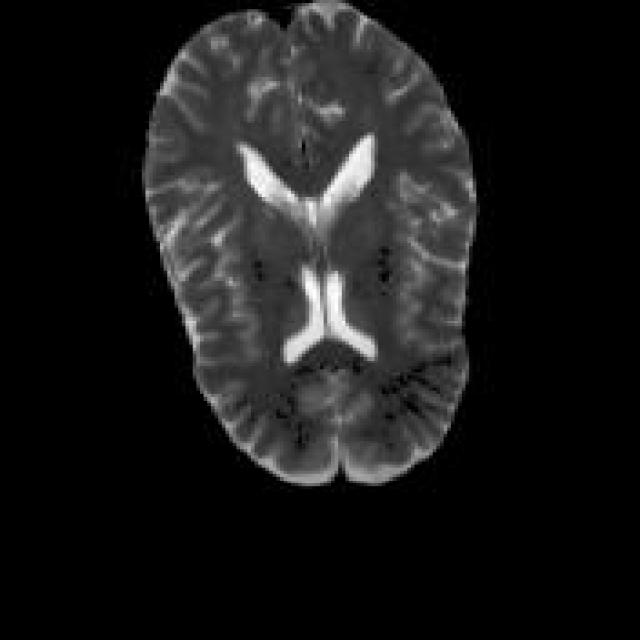CONTROL: (138, 0, 480, 486)
